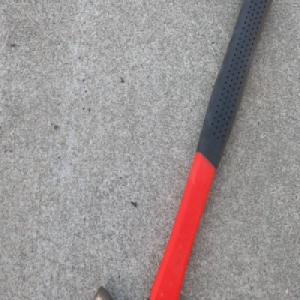Hammer: (92, 0, 273, 300)
